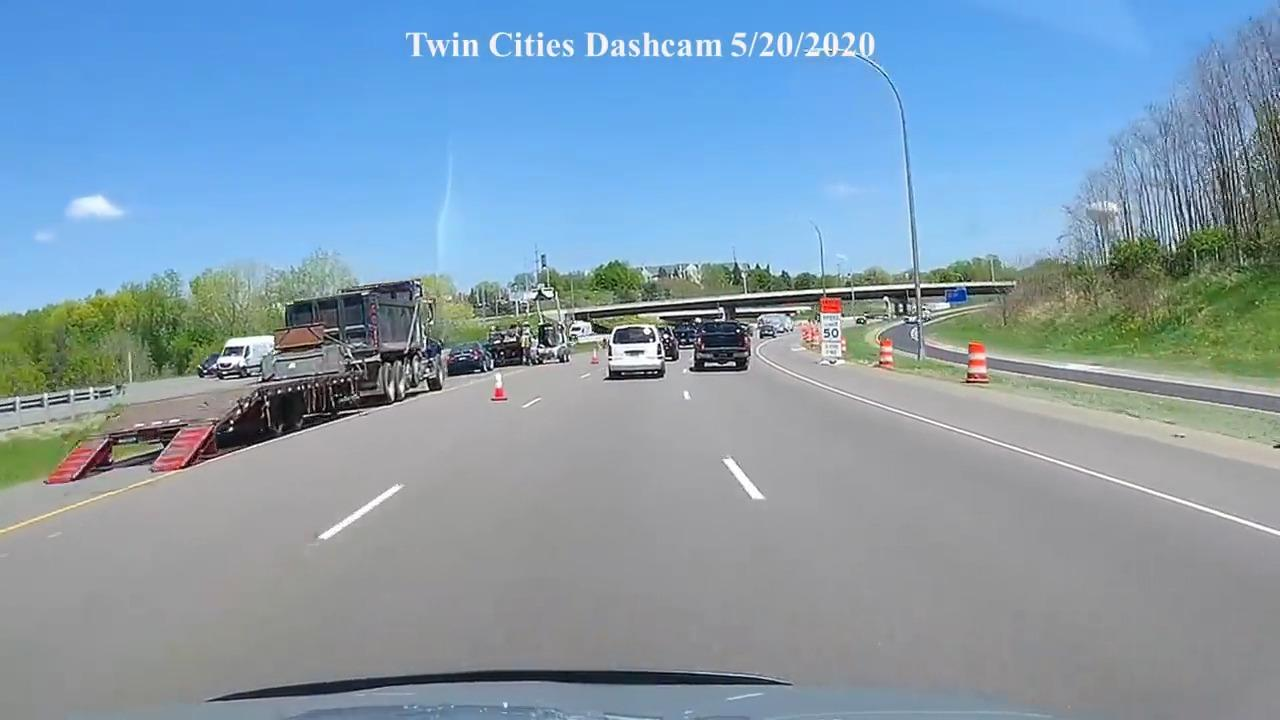car: (198, 354, 222, 379)
traffic cone: (963, 342, 990, 385), (877, 337, 894, 370), (491, 371, 509, 402), (591, 341, 603, 365)
